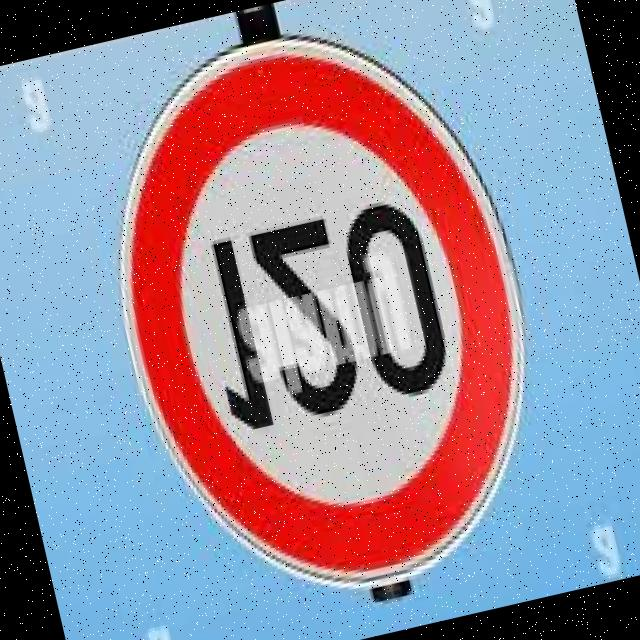speed_limit_120: (58, 0, 583, 634)
